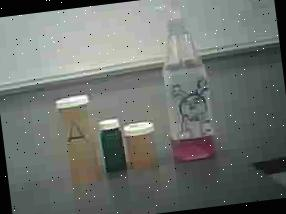Bottle A: (49, 91, 112, 196)
Bottle B: (122, 113, 162, 175)
Bottle C: (94, 106, 128, 175)
hazard: (141, 0, 240, 171)
